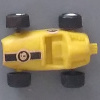amarillo: (4, 15, 96, 86)
